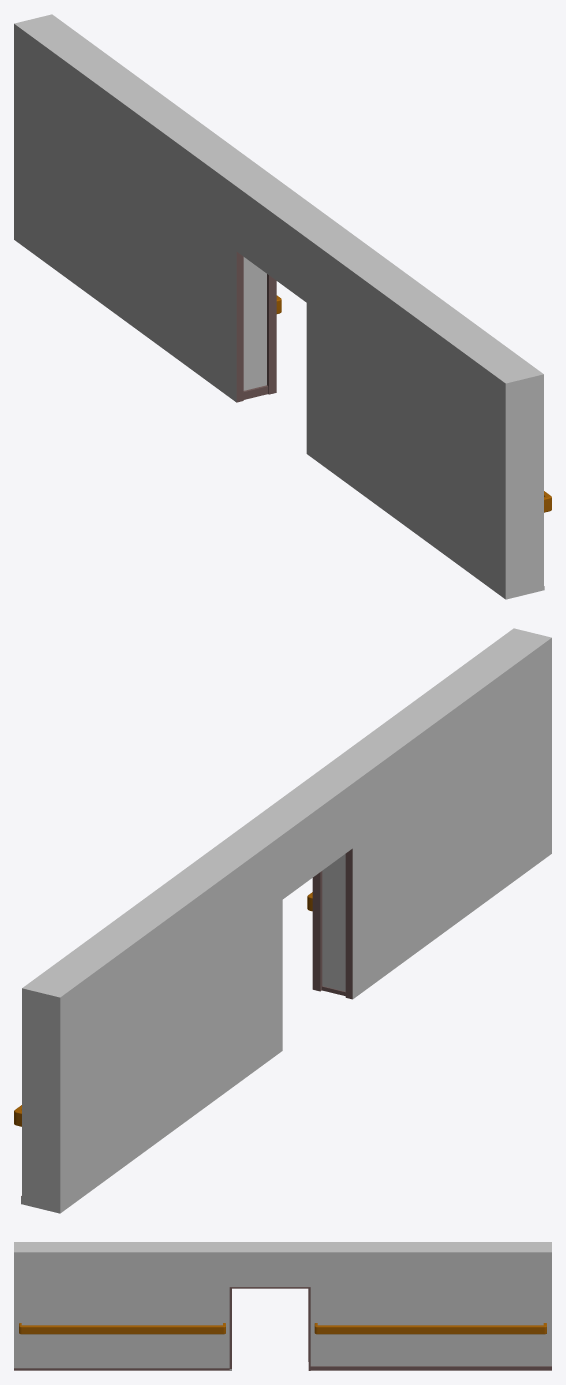
Rendered from Wall.fbx.
3 renders of one model, top to bottom at view 1: azimuth 30°, elevation 25°; view 2: azimuth 150°, elevation 25°; view 3: azimuth 270°, elevation 25°, orthographic. The views are drawn at different scales.
Visible parts, largest first — view 1: pCube2; view 2: pCube2; view 3: pCube2, pCube4, pCube3.
Boxes of the visible parts, <box> form: pCube2: <box>14,14,544,599</box>; pCube2: <box>21,628,551,1213</box>; pCube2: <box>14,1242,551,1370</box>; pCube4: <box>314,1323,546,1334</box>; pCube3: <box>19,1323,225,1334</box>.
Bounding box in the file's own units: 0.7592 × 3 × 12.38.
